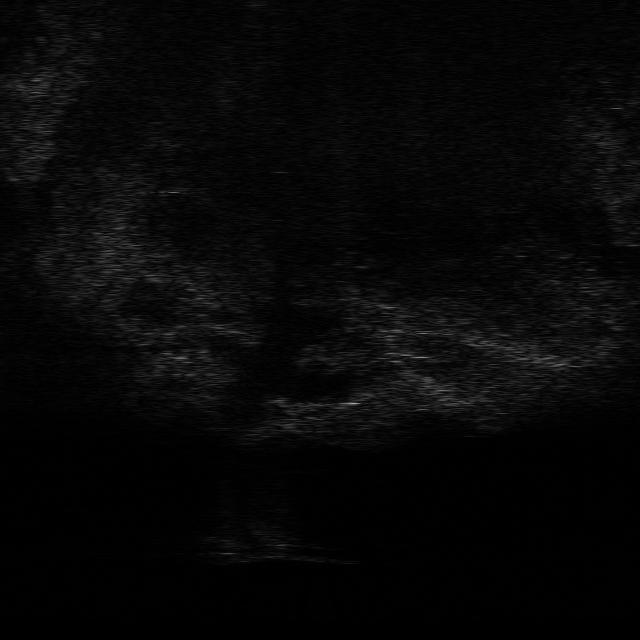plane: (205, 520, 354, 569)
